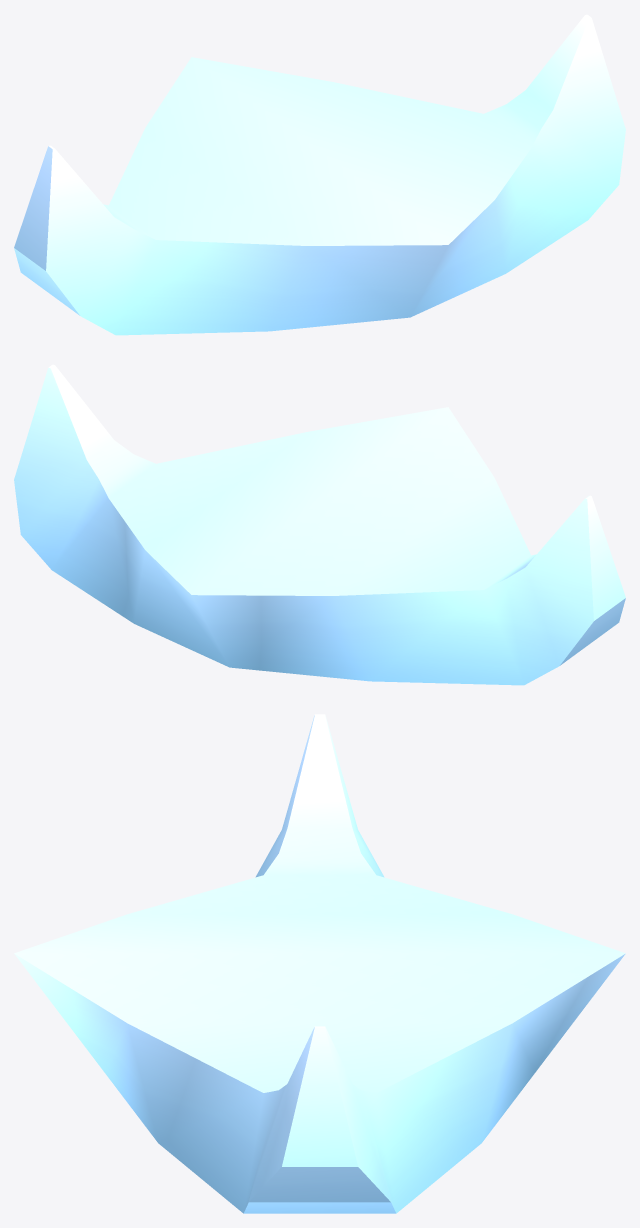
Rendered from steel_guard_049.glb.
3 views of the same model, one above another, from view 1: azimuth 30°, elevation 25°; view 2: azimuth 150°, elevation 25°; view 3: azimuth 270°, elevation 25° (orthographic). The views are drawn at different scales.
Parts seen in each view (by area): view 1: steel_guard_049; view 2: steel_guard_049; view 3: steel_guard_049.
Boxes of the visible parts, x1=… form: steel_guard_049: x1=14, y1=14, x2=625, y2=335; steel_guard_049: x1=14, y1=364, x2=625, y2=685; steel_guard_049: x1=14, y1=714, x2=625, y2=1213.
Size of the model in its own units: 4.04 by 1.15 by 3.1.
1 material, 1 textured.
